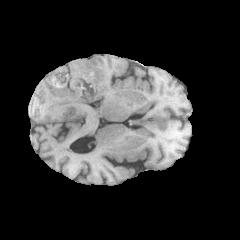glioma: (36, 59, 107, 122)
